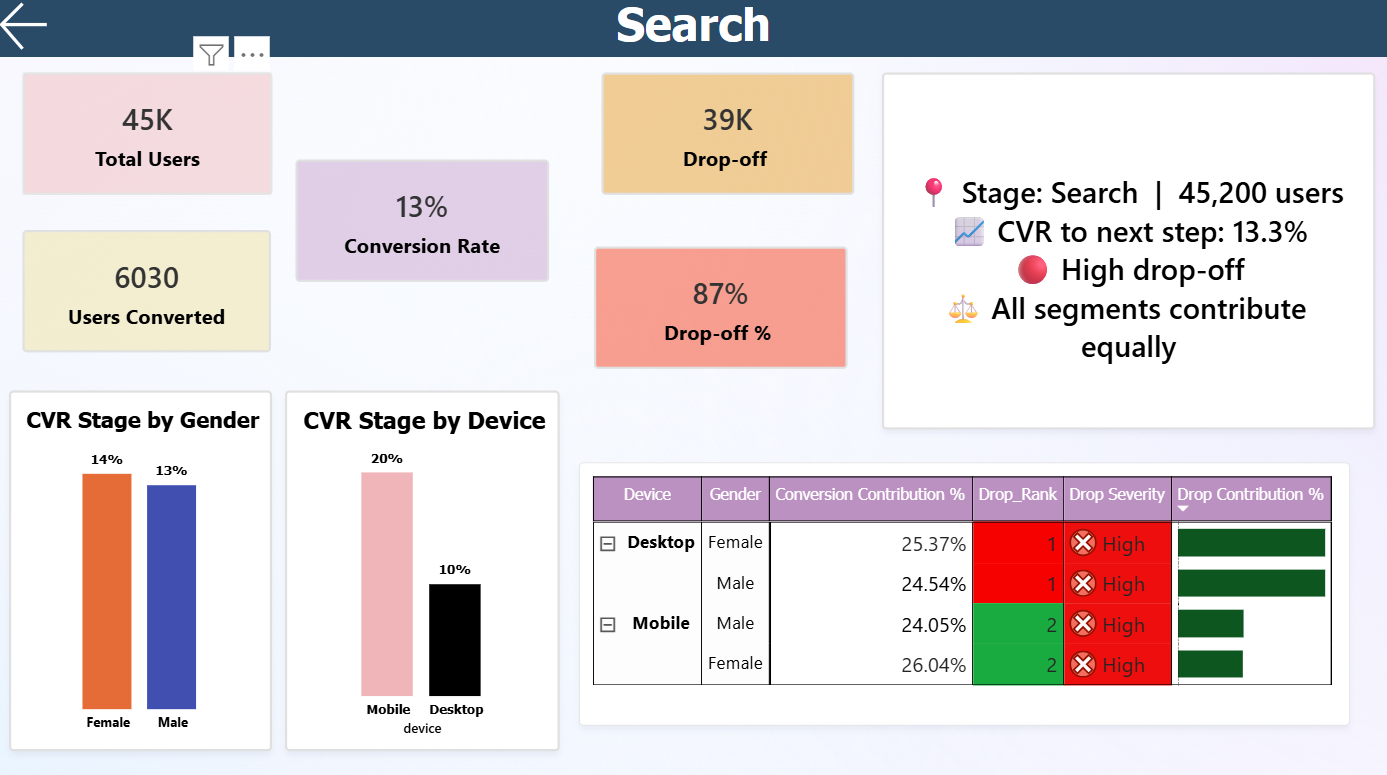

Layout of this report page (visuals, bound fields, positions):
{"tool":"powerbi","page":{"name":"Stage Deep Dive","canvas":[1280,720],"ordinal":3},"visuals":[{"type":"textbox","box":[0,0,1280,55.4],"z":0},{"type":"card","title":"TOTAL USERS","fields":{"Values":["Measure_Table.Total Users"]},"box":[25.8,69.7,228.7,112.1],"z":1000},{"type":"card","title":"TOTAL USERS","fields":{"Values":["Measure_Table.Users_Converted"]},"box":[25.8,213.6,227.2,112.1],"z":2000},{"type":"card","title":"TOTAL USERS","fields":{"Values":["Measure_Table.Drop-off Stage"]},"box":[555.9,69.7,231,112.1],"z":3000},{"type":"card","title":"TOTAL USERS","fields":{"Values":["Measure_Table.Drop-off % Stage"]},"box":[548.4,228.7,231.8,112.1],"z":4000},{"type":"clusteredColumnChart","title":"CVR Stage by Device","fields":{"Category":["funnel_data.device"],"Y":["Measure_Table.CVR Stage"]},"box":[266.6,360.5,251.5,330.2],"z":5000},{"type":"clusteredColumnChart","fields":{"Category":["funnel_data.sex"],"Y":["Measure_Table.CVR Stage"]},"box":[13.6,360.5,240.9,330.2],"z":6000},{"type":"actionButton","box":[0,0,61.6,55.3],"z":7000},{"type":"card","title":"TOTAL USERS","fields":{"Values":["Measure_Table.CVR Stage"]},"box":[275.7,150,231.8,112.1],"z":8000},{"type":"pivotTable","fields":{"Values":["Measure_Table.Conversion Contribution %","Measure_Table.Drop_Rank","Measure_Table.Drop Severity","Measure_Table.Drop Contribution %"],"Rows":["funnel_data.device","funnel_data.sex"]},"box":[535,427.2,705.6,240.5],"z":9000},{"type":"card","fields":{"Values":["Measure_Table.Insight Text Stage"]},"box":[812.4,70,451.5,326.6],"z":10000}]}

Visuals, with their boxes in screenshot pixels (x1, y1, x2, y2), scaled from the page's 1280x720 canvas onto the 1387x775 screenshot:
textbox: [0,0,1386,60]
"TOTAL USERS" card: [28,75,276,196]
"TOTAL USERS" card: [28,230,274,351]
"TOTAL USERS" card: [602,75,853,196]
"TOTAL USERS" card: [594,246,845,367]
"CVR Stage by Device" clusteredColumnChart: [289,388,561,743]
clusteredColumnChart - funnel_data.sex x Measure_Table.CVR Stage: [15,388,276,743]
actionButton: [0,0,67,60]
"TOTAL USERS" card: [299,161,550,282]
pivotTable - Measure_Table.Conversion Contribution % x Measure_Table.Drop_Rank: [580,460,1344,719]
card - Measure_Table.Insight Text Stage: [880,75,1370,427]
